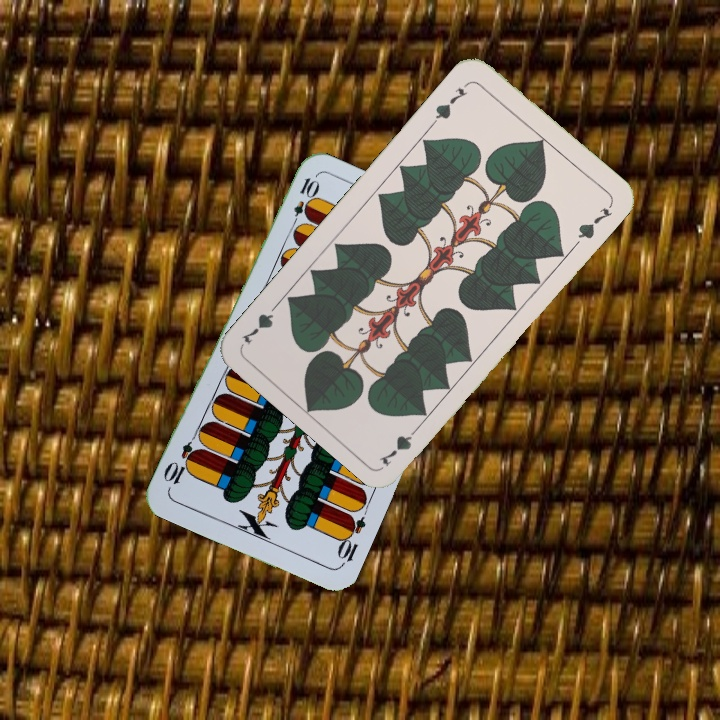E10: (333, 511, 368, 569), (287, 173, 320, 231)
G7: (375, 420, 424, 469), (428, 78, 472, 127)
